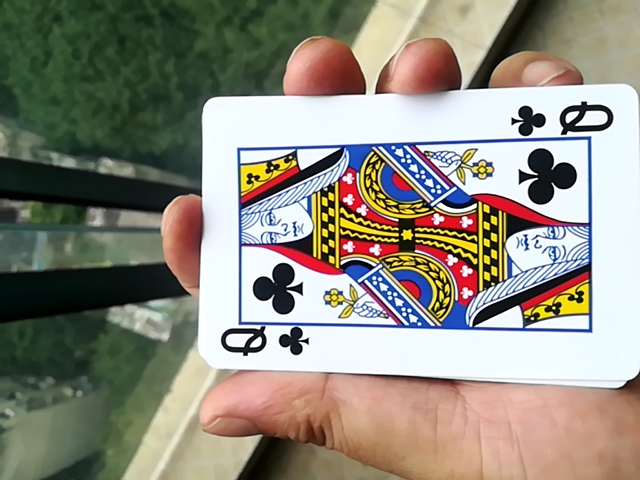mh q: (169, 88, 630, 392)
